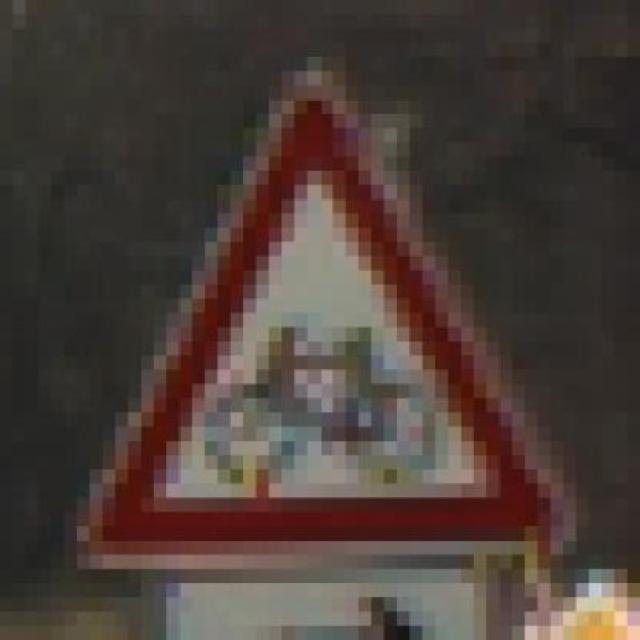CYCLE ROUTE AHEAD WARNING: (64, 57, 576, 569)
